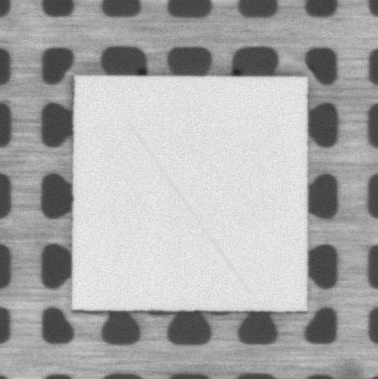DIE_CRACK: (128, 122, 249, 294)
